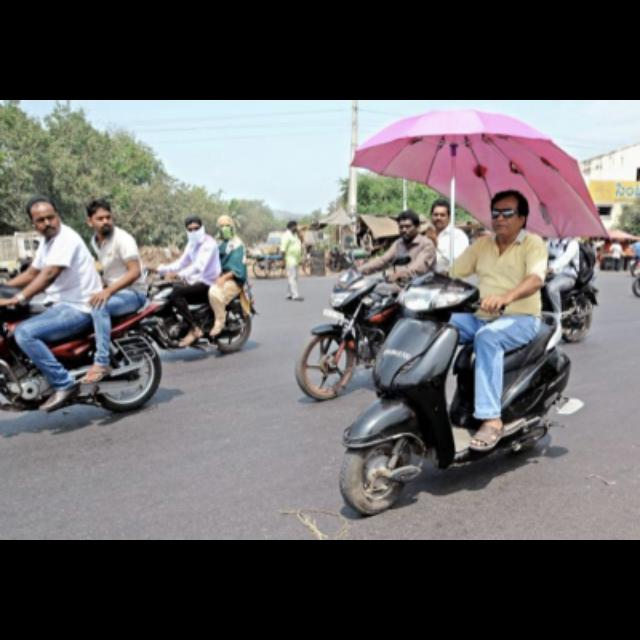Without Helmet: (483, 184, 531, 242), (21, 190, 61, 236), (80, 194, 120, 232), (393, 204, 422, 244), (178, 208, 208, 246)
